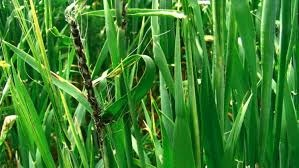Wheat Loose Smut: (66, 19, 108, 121)
